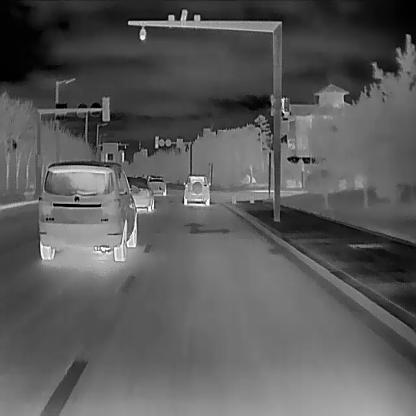car: (36, 159, 138, 262), (124, 175, 154, 211), (182, 174, 211, 205), (146, 174, 166, 196)
